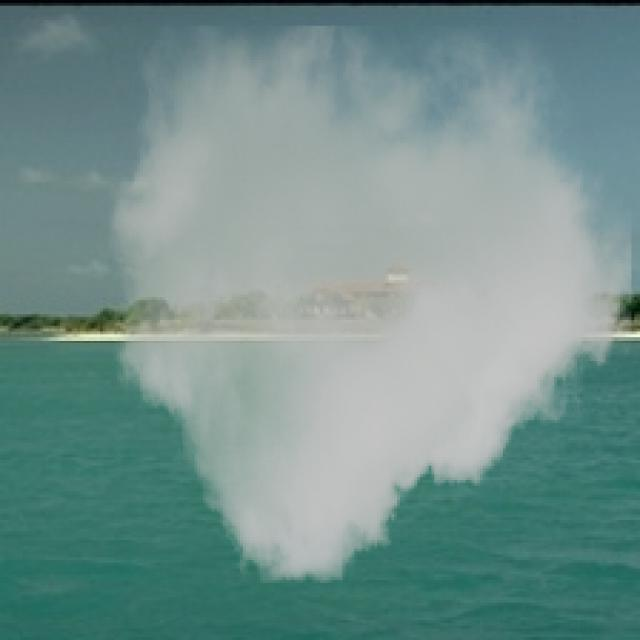smoke: (109, 26, 632, 583)
